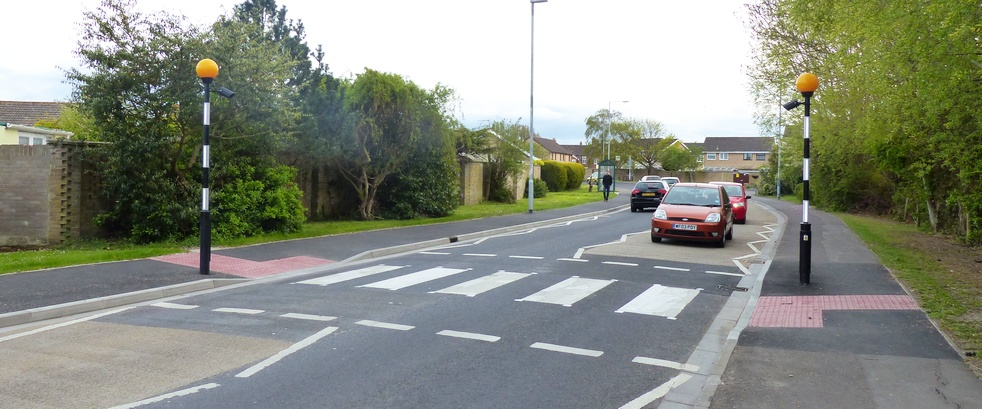Car: (651, 180, 747, 251), (623, 174, 666, 214)
Crosswalk: (286, 249, 747, 358)
Person: (592, 167, 619, 203)
Tree: (86, 13, 291, 237), (284, 66, 465, 225)
